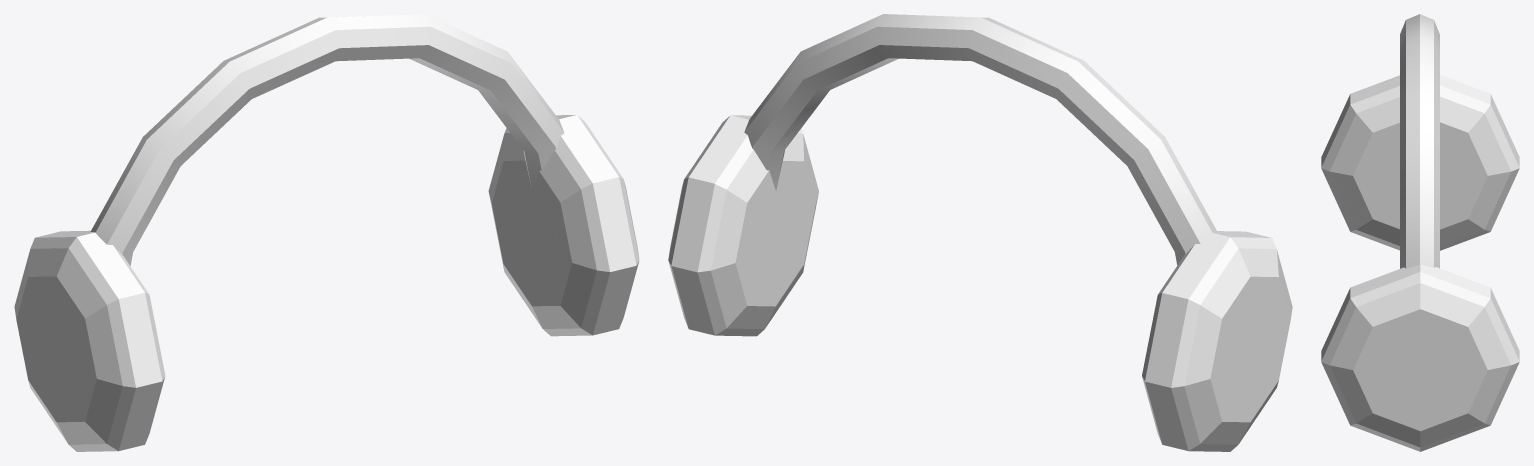
The model's file is earplugs.fbx.
3 views of the same model, side by side, from view 1: azimuth 30°, elevation 25°; view 2: azimuth 150°, elevation 25°; view 3: azimuth 270°, elevation 25° (orthographic). The views are drawn at different scales.
Parts seen in each view (by area): view 1: Shape; view 2: Shape; view 3: Shape.
Part boxes in pixels (box(x1,y1,x2,y2)): Shape: box(14, 14, 639, 451); Shape: box(668, 14, 1292, 451); Shape: box(1321, 14, 1519, 451).
Size of the model in its own units: 9.3 by 6.14 by 3.53.
